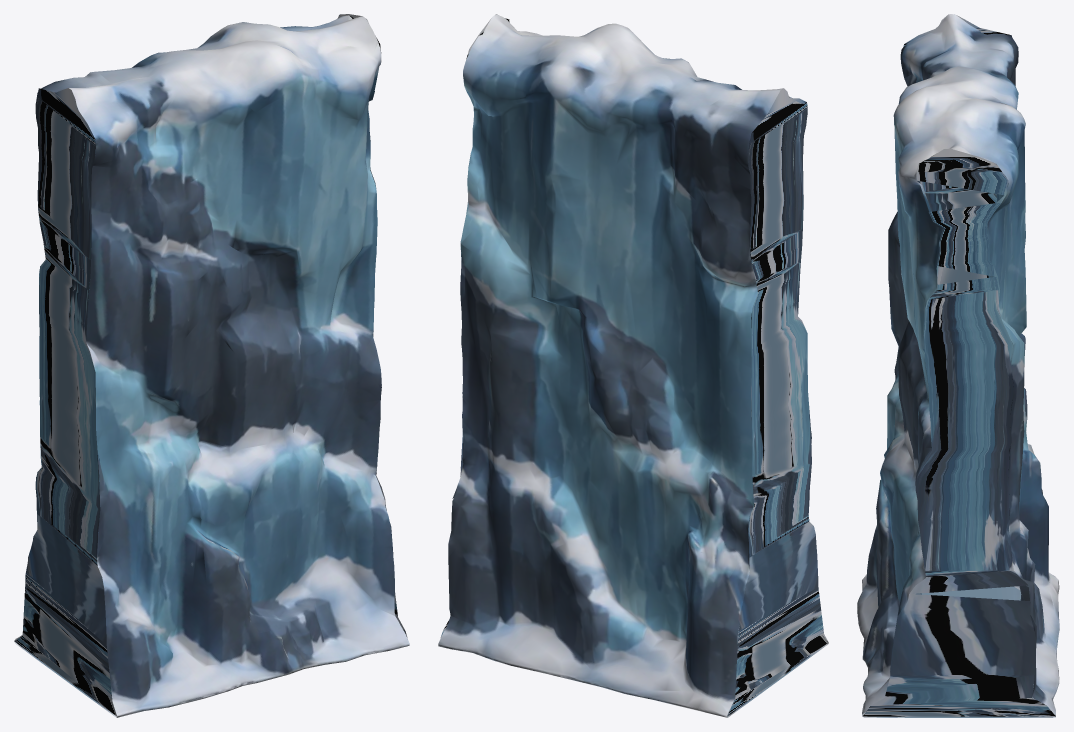
File: SM_Tripo_FrostSeaRampartPlainPanel.glb
The picture shows the model from 3 angles, left to right: view 1: azimuth 30°, elevation 25°; view 2: azimuth 150°, elevation 25°; view 3: azimuth 270°, elevation 25°; orthographic projection. The views are drawn at different scales.
Parts seen in each view (by area): view 1: SM_Tripo_FrostSeaRampartPlainPanel_LOD0; view 2: SM_Tripo_FrostSeaRampartPlainPanel_LOD0; view 3: SM_Tripo_FrostSeaRampartPlainPanel_LOD0.
Boxes of the visible parts, left/top/right/bottom form: SM_Tripo_FrostSeaRampartPlainPanel_LOD0: left=14, top=14, right=409, bottom=717; SM_Tripo_FrostSeaRampartPlainPanel_LOD0: left=438, top=14, right=828, bottom=717; SM_Tripo_FrostSeaRampartPlainPanel_LOD0: left=857, top=14, right=1059, bottom=717.
Size of the model in its own units: 4.4 by 8.67 by 2.76.
1 material, 1 textured.
